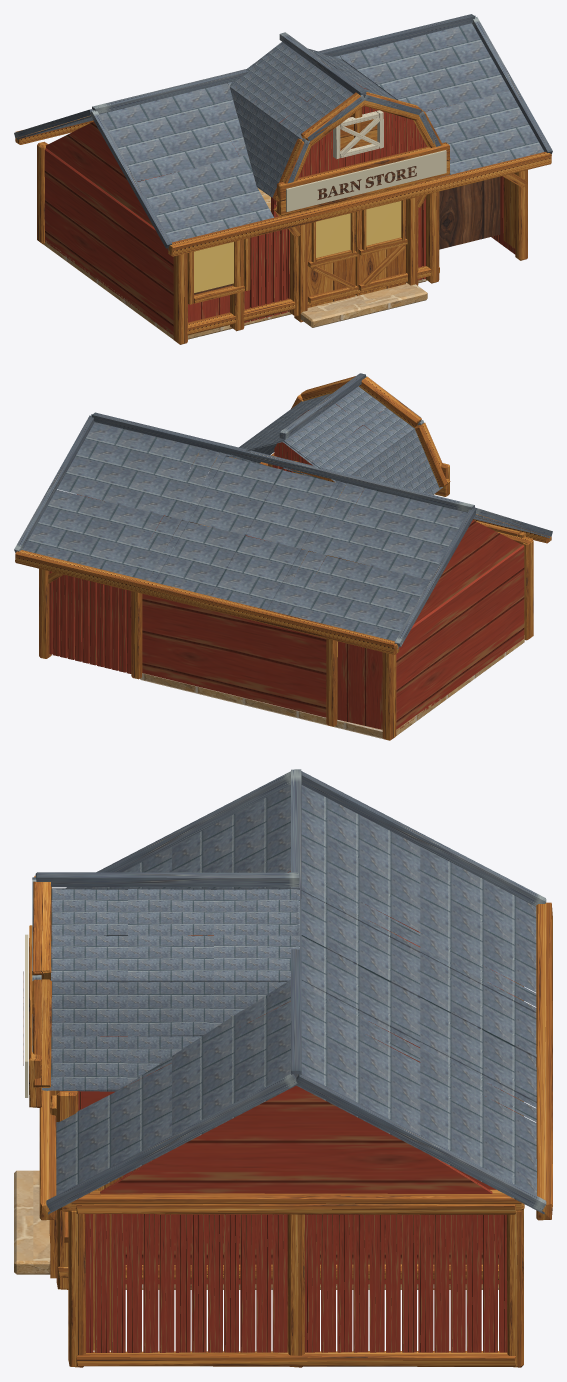
The model's file is BarnStore_Cozy_LOD2.fbx.
The picture shows the model from 3 angles, top to bottom: view 1: azimuth 30°, elevation 25°; view 2: azimuth 150°, elevation 25°; view 3: azimuth 270°, elevation 25°; orthographic projection. The views are drawn at different scales.
Visible parts, largest first — view 1: BarnStore_Cozy_LOD2; view 2: BarnStore_Cozy_LOD2; view 3: BarnStore_Cozy_LOD2.
Boxes of the visible parts, <box> form: BarnStore_Cozy_LOD2: <box>14,14,552,344</box>; BarnStore_Cozy_LOD2: <box>14,373,552,740</box>; BarnStore_Cozy_LOD2: <box>14,769,552,1367</box>.
Bounding box in the file's own units: 9.93 × 5.41 × 7.38.
